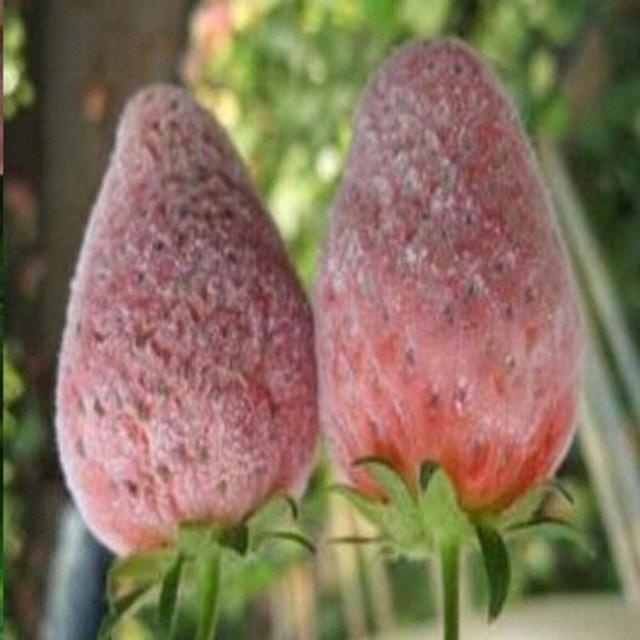Powdery Mildew Fruit: (307, 36, 584, 547), (54, 86, 322, 560)
